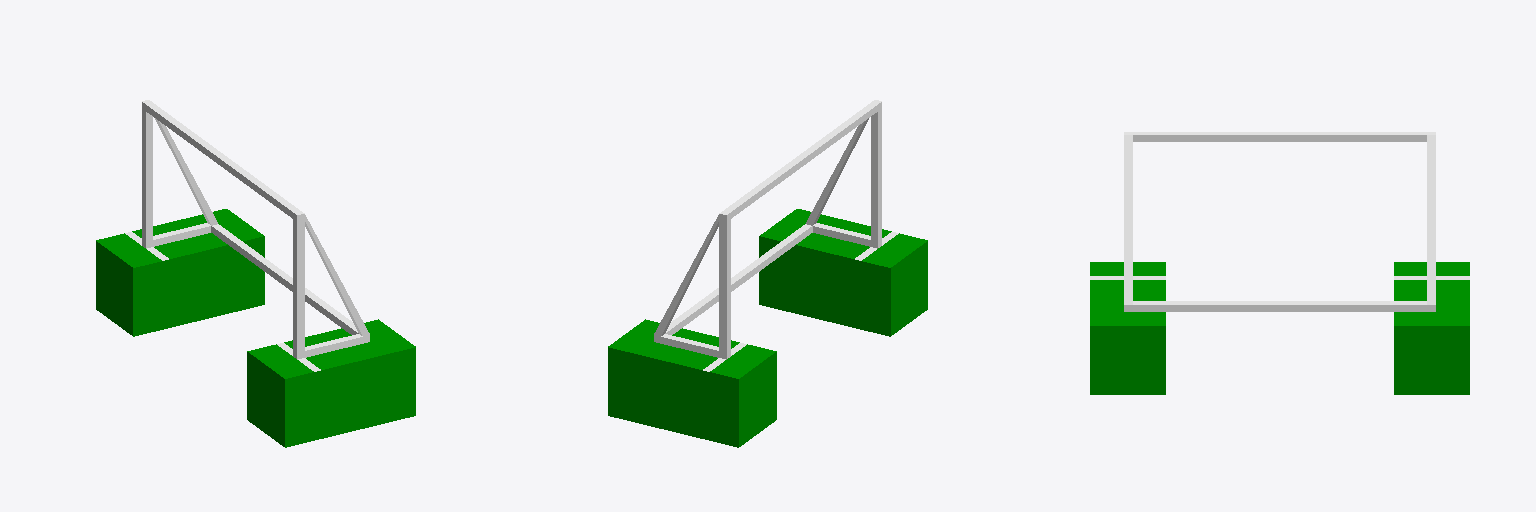
The model's file is SoccerGoal3.obj.
3 views of the same model, side by side, from view 1: azimuth 30°, elevation 25°; view 2: azimuth 150°, elevation 25°; view 3: azimuth 270°, elevation 25° (orthographic).
Visible parts, largest first — view 1: Cube; view 2: Cube; view 3: Cube.
Part boxes in pixels (bbox=[...]): Cube: bbox=[96, 100, 415, 447]; Cube: bbox=[608, 100, 927, 447]; Cube: bbox=[1090, 132, 1469, 394].
Size of the model in its own units: 4 by 6.2 by 10.